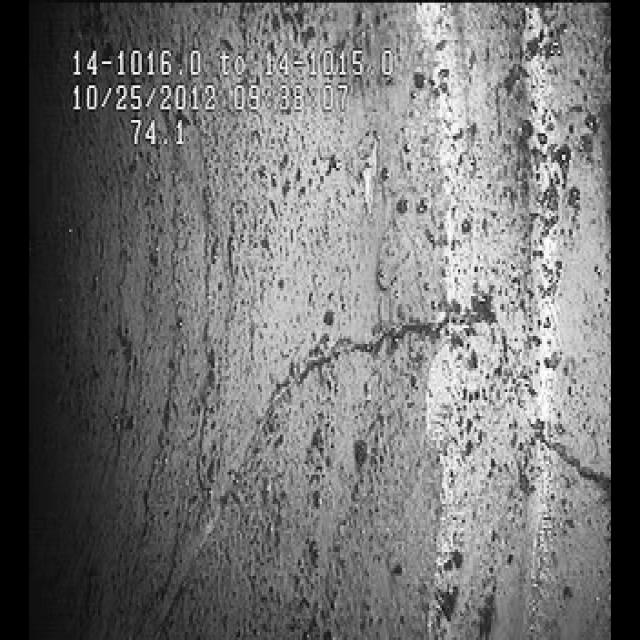Crack: (277, 283, 549, 475)
